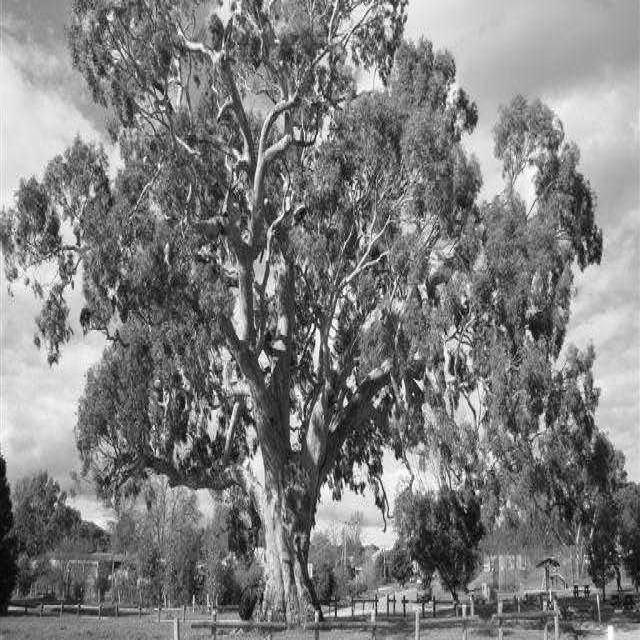Tree: (0, 0, 601, 622)
